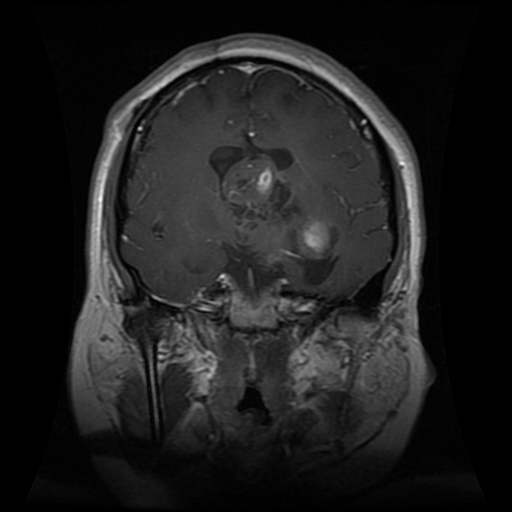glioma: (206, 142, 341, 284)
